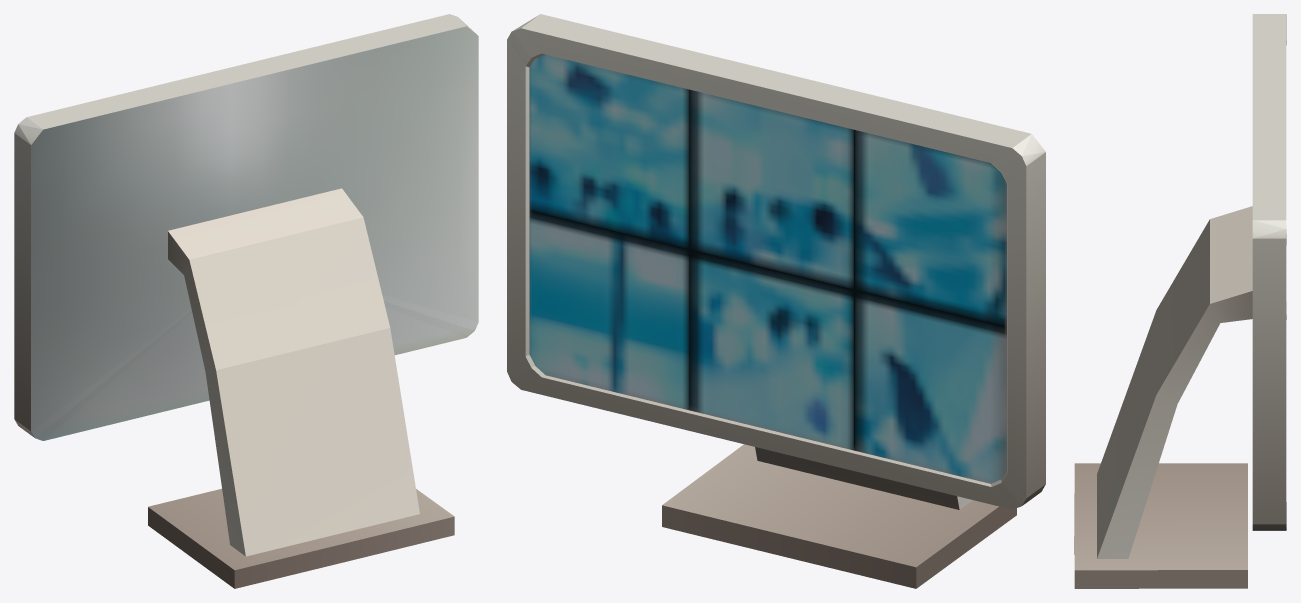
Rendered from CBS_cafe_pos.FBX.
3 views of the same model, side by side, from view 1: azimuth 30°, elevation 25°; view 2: azimuth 150°, elevation 25°; view 3: azimuth 270°, elevation 25° (orthographic). The views are drawn at different scales.
Visible parts, largest first — view 1: CBS_cafe_pos; view 2: CBS_cafe_pos; view 3: CBS_cafe_pos.
Boxes of the visible parts, x1=… form: CBS_cafe_pos: x1=14, y1=14, x2=478, y2=588; CBS_cafe_pos: x1=507, y1=14, x2=1045, y2=588; CBS_cafe_pos: x1=1074, y1=14, x2=1286, y2=588.
Bounding box in the file's own units: 48.2 × 43.1 × 19.82.
